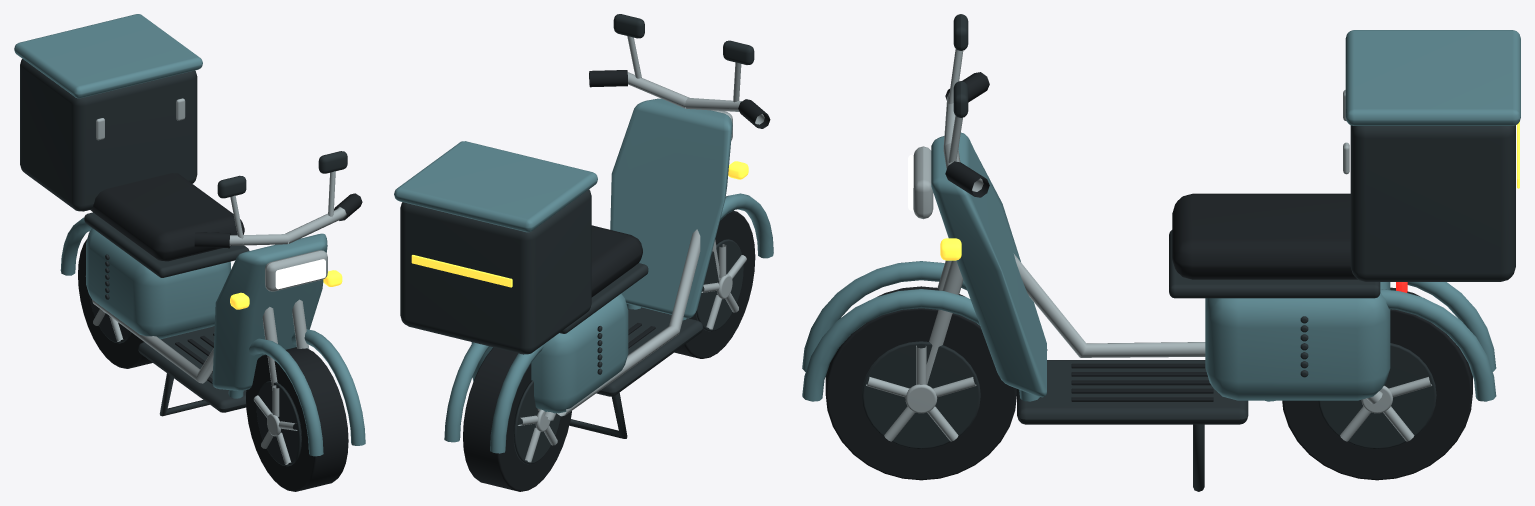
File: delivery-scooter.glb
3 renders of one model, left to right at view 1: azimuth 30°, elevation 25°; view 2: azimuth 150°, elevation 25°; view 3: azimuth 270°, elevation 25°, orthographic. The views are drawn at different scales.
Parts seen in each view (by area): view 1: body__Body enamel, body__Graphite polymer, body__Tire rubber, body__Machined alloy, body__Headlight ceramic, body__Signal amber; view 2: body__Body enamel, body__Graphite polymer, body__Tire rubber, body__Machined alloy, body__Signal amber; view 3: body__Body enamel, body__Graphite polymer, body__Tire rubber, body__Machined alloy.
Boxes of the visible parts, left/top/right/bottom form: body__Body enamel: left=14, top=14, right=365, bottom=456; body__Graphite polymer: left=20, top=59, right=347, bottom=466; body__Tire rubber: left=78, top=173, right=362, bottom=491; body__Machined alloy: left=85, top=98, right=346, bottom=464; body__Headlight ceramic: left=275, top=259, right=325, bottom=289; body__Signal amber: left=230, top=270, right=342, bottom=309; body__Body enamel: left=394, top=98, right=773, bottom=453; body__Graphite polymer: left=400, top=14, right=754, bottom=464; body__Tire rubber: left=463, top=70, right=770, bottom=491; body__Machined alloy: left=518, top=36, right=764, bottom=462; body__Signal amber: left=411, top=161, right=748, bottom=287; body__Body enamel: left=802, top=30, right=1520, bottom=401; body__Graphite polymer: left=862, top=14, right=1515, bottom=491; body__Tire rubber: left=825, top=72, right=1472, bottom=480; body__Machined alloy: left=866, top=49, right=1431, bottom=441.
Size of the model in its own units: 0.7966 by 1.39 by 2.18.
